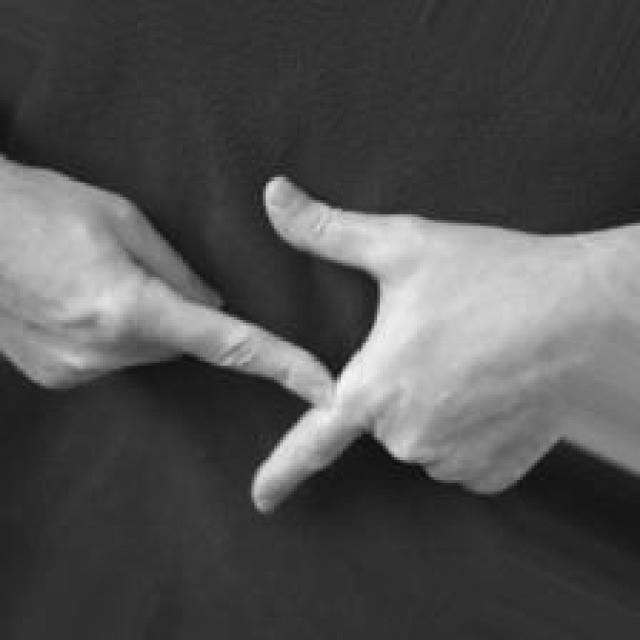F: (0, 157, 565, 518)
